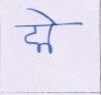o_matra: (45, 10, 57, 54)
